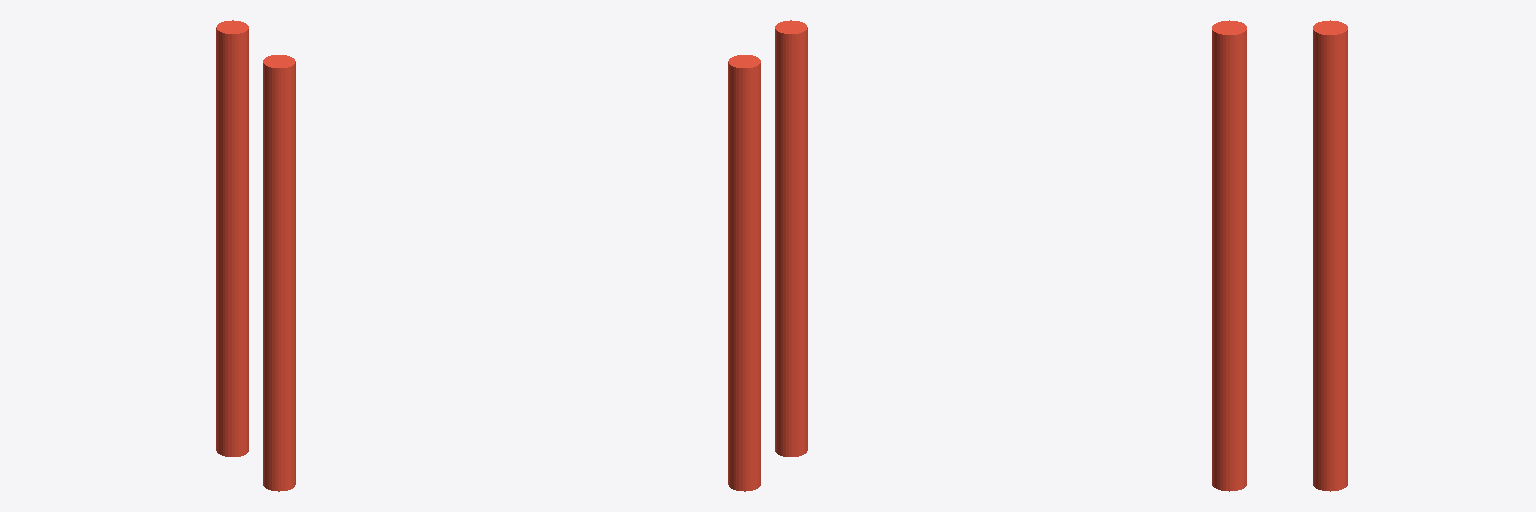
URDF robot description (obstacles):
<?xml version="1.0"?>
<robot name="obstacles"> <!-- two high cylinders-->
  <material name="Orange">
    <color rgba="1 0.4 0.3 1"/>
  </material>
  <link name="obstacle_base">
    <visual>
      <origin xyz="-0.3 0.2 0.47"/>
      <geometry>
        <cylinder length="2." radius="0.07"/>
      </geometry>
      <material name="Orange"/>
    </visual>
    <collision>
      <origin xyz="-0.3 0.2 0.47"/>
      <geometry>
        <cylinder length="2." radius="0.07"/>
      </geometry>
    </collision>
  </link>

  <joint name="j_object_one" type="fixed">
    <parent link="obstacle_base"/>
    <child link="l_object_one"/>
    <origin xyz="0 0 0"/>
  </joint>

  <link name="l_object_one">
    <visual>
      <origin xyz="-0.3 -0.2 0.47"/>
      <geometry>
        <cylinder length="2." radius="0.07"/>
      </geometry>
      <material name="Orange"/>
    </visual>
    <collision>
      <origin xyz="-0.3 -0.2 0.47"/>
      <geometry>
        <cylinder length="2." radius="0.07"/>
      </geometry>
    </collision>
  </link>
</robot>

--- Facts derived from the render (not from the file) ---
Views: 3 orthographic renders of the robot side by side, from view 1: azimuth 30°, elevation 25°; view 2: azimuth 150°, elevation 25°; view 3: azimuth 270°, elevation 25°.
Robot: obstacles — 2 links, 1 joints (1 fixed); root link obstacle_base; default pose: all joints at 0.
Links seen in each view (by area): view 1: obstacle_base, l_object_one; view 2: obstacle_base, l_object_one; view 3: obstacle_base, l_object_one.
Boxes of the visible links, left/top/right/bottom form: obstacle_base: left=216, top=20, right=248, bottom=456; l_object_one: left=263, top=55, right=295, bottom=491; obstacle_base: left=728, top=55, right=760, bottom=491; l_object_one: left=775, top=20, right=807, bottom=456; obstacle_base: left=1313, top=20, right=1347, bottom=491; l_object_one: left=1212, top=20, right=1246, bottom=491.
Size in the robot's own frame: 0.14 by 0.54 by 2 metres.
Geometry: primitives only (box / cylinder / sphere), no mesh files.